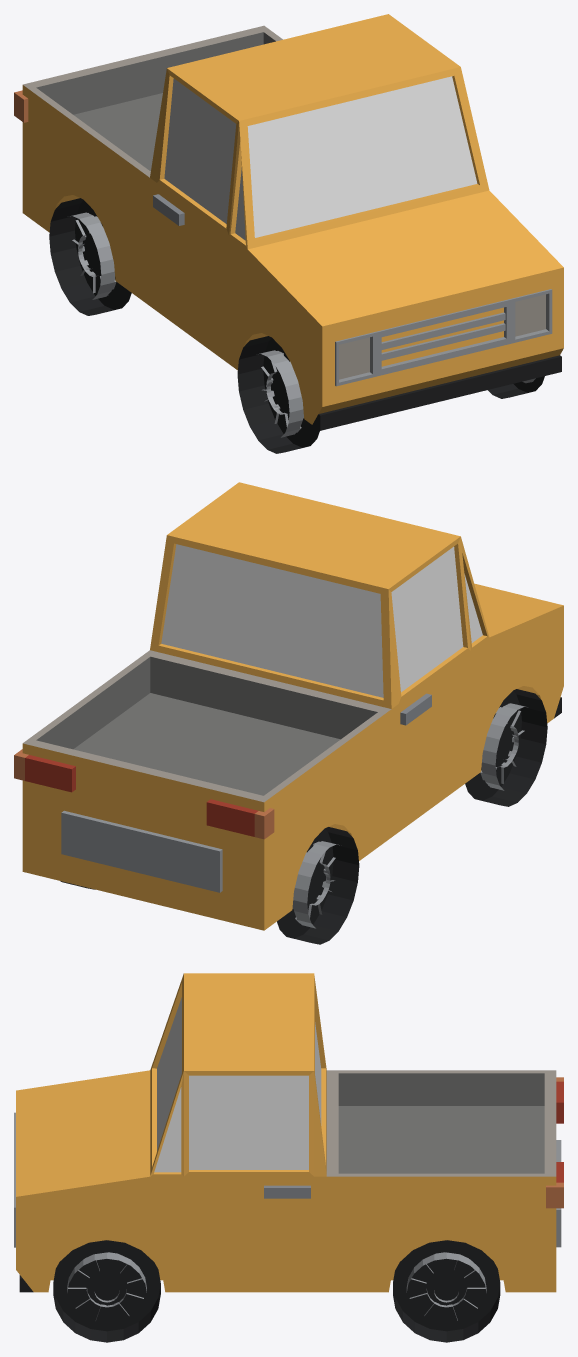
Rendered from SM_car_04.gltf.
3 views of the same model, one above another, from view 1: azimuth 30°, elevation 25°; view 2: azimuth 150°, elevation 25°; view 3: azimuth 270°, elevation 25° (orthographic). The views are drawn at different scales.
Visible parts, largest first — view 1: SM_car_04, wheel_15, wheel_16, wheel_13; view 2: SM_car_04, wheel_16, wheel_15; view 3: SM_car_04, wheel_13, wheel_14.
Boxes of the visible parts, x1,y1,x2,y2 form: SM_car_04: [14, 14, 563, 430]; wheel_15: [237, 336, 319, 453]; wheel_16: [49, 198, 131, 315]; wheel_13: [488, 376, 544, 398]; SM_car_04: [14, 482, 563, 930]; wheel_16: [277, 827, 359, 944]; wheel_15: [465, 689, 547, 806]; SM_car_04: [14, 973, 563, 1292]; wheel_13: [53, 1240, 160, 1342]; wheel_14: [393, 1240, 500, 1342].
Bounding box in the file's own units: 0.7855 × 0.8726 × 1.64.
